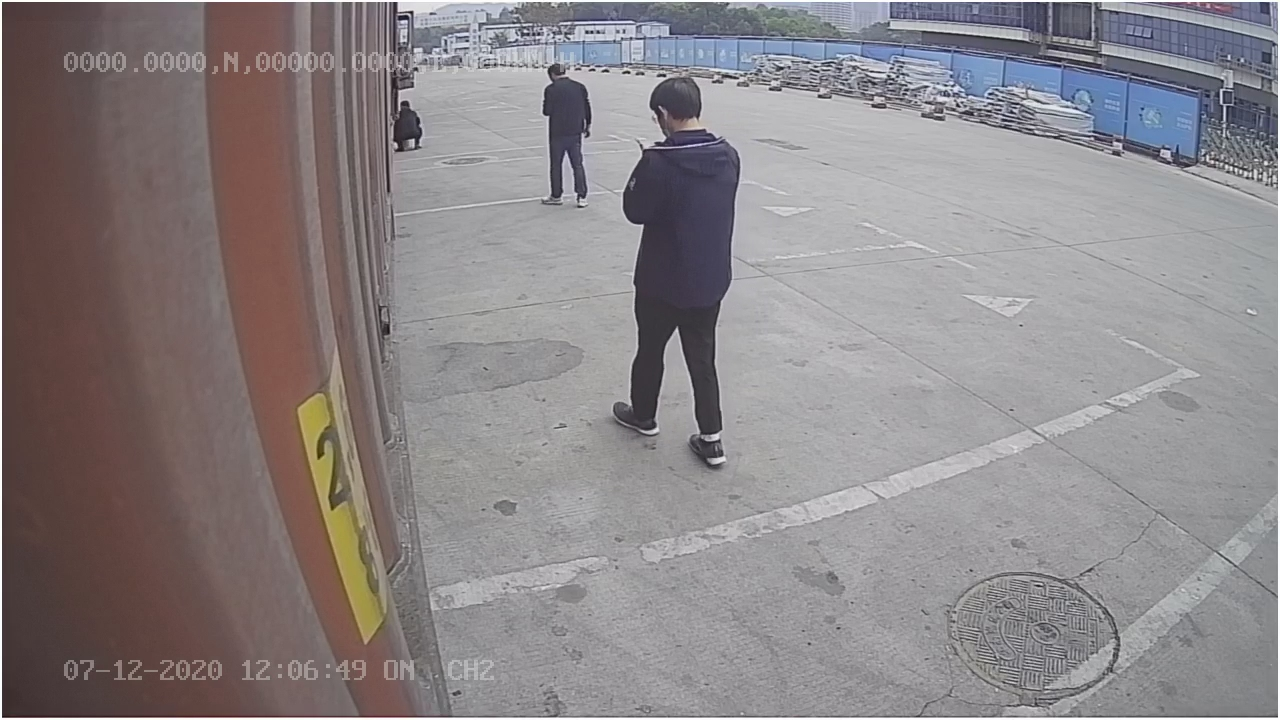person: (613, 62, 741, 468)
